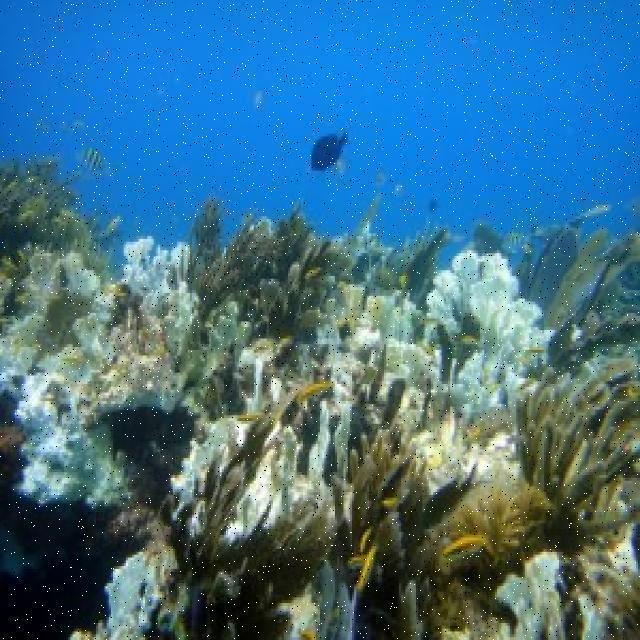Bleached: (14, 295, 197, 501), (163, 397, 343, 575), (428, 239, 548, 412)
